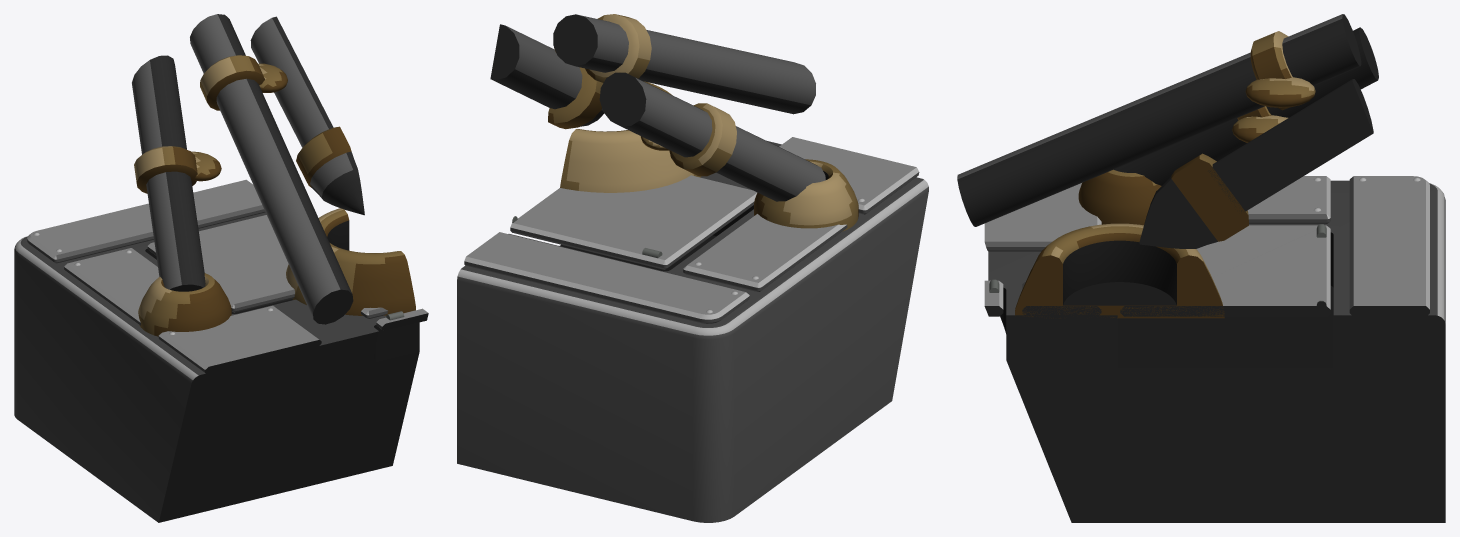
The model's file is asteroid_rig_tl_5.glb.
3 renders of one model, left to right at view 1: azimuth 30°, elevation 25°; view 2: azimuth 150°, elevation 25°; view 3: azimuth 270°, elevation 25°, orthographic. The views are drawn at different scales.
Visible parts, largest first — view 1: asteroid_rig_tl_5; view 2: asteroid_rig_tl_5; view 3: asteroid_rig_tl_5.
Boxes of the visible parts, x1=… form: asteroid_rig_tl_5: x1=14, y1=14, x2=428, y2=522; asteroid_rig_tl_5: x1=457, y1=14, x2=928, y2=522; asteroid_rig_tl_5: x1=957, y1=14, x2=1445, y2=522.
Bounding box in the file's own units: 20 × 31.47 × 29.84.
